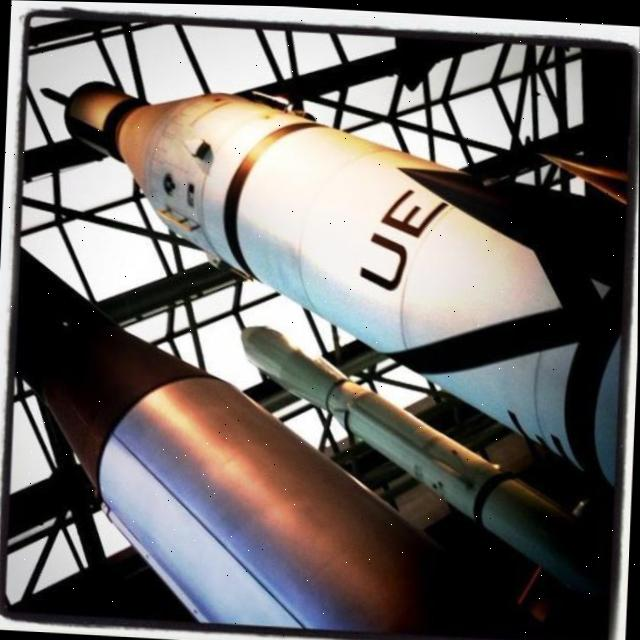missile: (27, 69, 640, 512)
